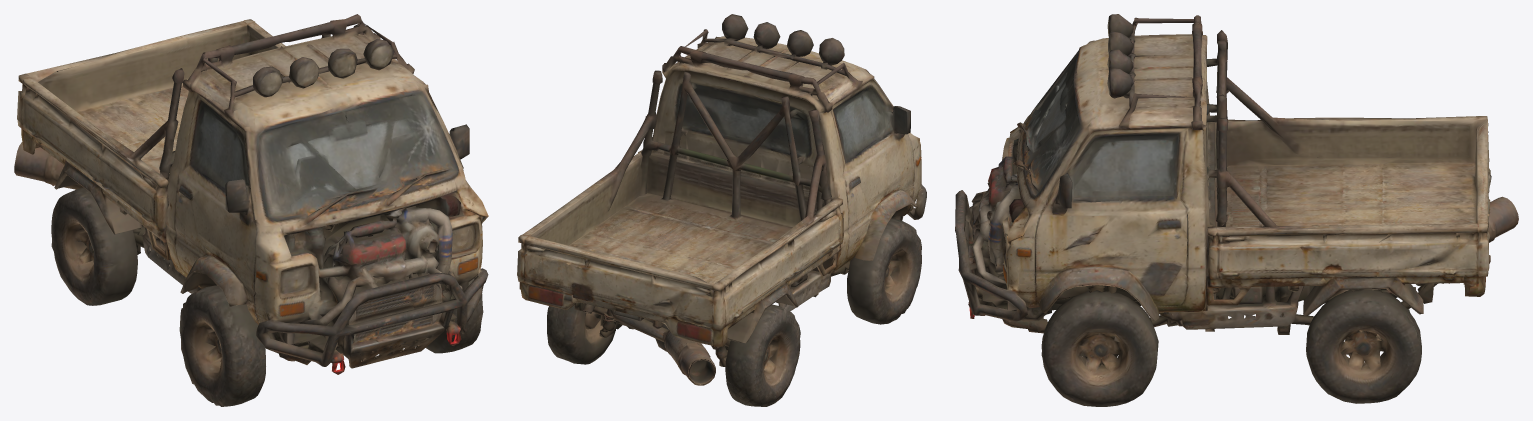
Rendered from kei_truck_broken_tripo_original.glb.
3 renders of one model, left to right at view 1: azimuth 30°, elevation 25°; view 2: azimuth 150°, elevation 25°; view 3: azimuth 270°, elevation 25°, orthographic. The views are drawn at different scales.
Visible parts, largest first — view 1: tripo_node_7e45e6d5-68a8-4eb7-98ca-a7d9c43e496e; view 2: tripo_node_7e45e6d5-68a8-4eb7-98ca-a7d9c43e496e; view 3: tripo_node_7e45e6d5-68a8-4eb7-98ca-a7d9c43e496e.
Part boxes in pixels (x1,y1,x2,y2): tripo_node_7e45e6d5-68a8-4eb7-98ca-a7d9c43e496e: [14, 14, 488, 406]; tripo_node_7e45e6d5-68a8-4eb7-98ca-a7d9c43e496e: [517, 14, 926, 406]; tripo_node_7e45e6d5-68a8-4eb7-98ca-a7d9c43e496e: [955, 14, 1518, 406].
Bounding box in the file's own units: 0.505 × 0.5901 × 0.9811.
1 material, 1 textured.
